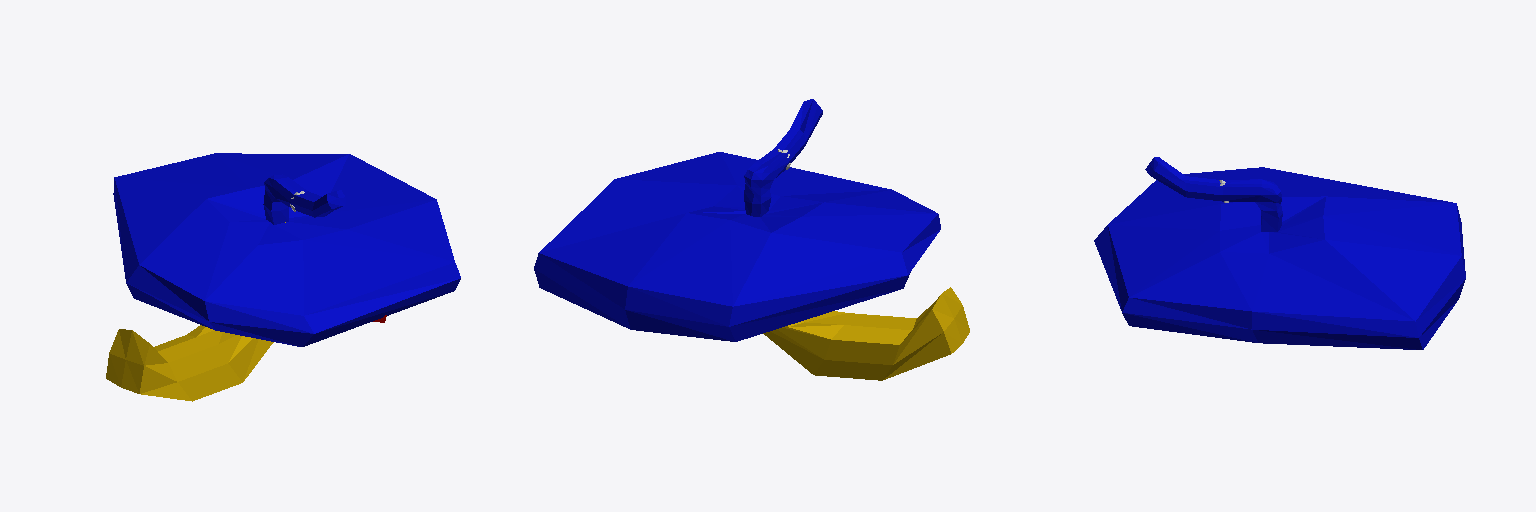
File: caveGeometry.obj
3 renders of one model, left to right at view 1: azimuth 30°, elevation 25°; view 2: azimuth 150°, elevation 25°; view 3: azimuth 270°, elevation 25°, orthographic.
Parts seen in each view (by area): view 1: baseArea_Cube.001, startTunnel_Cube.005; view 2: baseArea_Cube.001, startTunnel_Cube.005; view 3: baseArea_Cube.001, startTunnel_Cube.005.
Boxes of the visible parts, x1,y1,x2,y2 form: baseArea_Cube.001: [106, 153, 460, 401]; startTunnel_Cube.005: [263, 174, 345, 224]; baseArea_Cube.001: [534, 152, 969, 380]; startTunnel_Cube.005: [744, 99, 822, 216]; baseArea_Cube.001: [1094, 167, 1465, 349]; startTunnel_Cube.005: [1145, 157, 1282, 231].
Bounding box in the file's own units: 793 × 486 × 765.